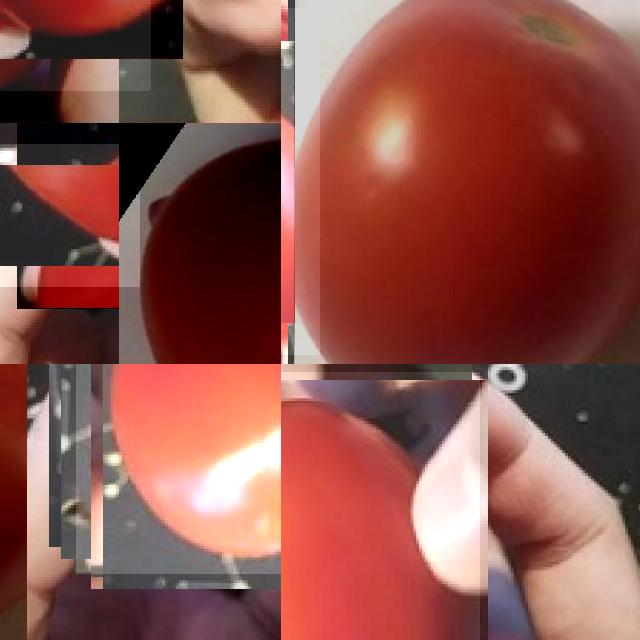Fresh Tomato: (294, 0, 640, 364), (281, 372, 480, 640), (76, 364, 281, 574), (119, 123, 281, 364), (0, 143, 139, 287), (0, 0, 151, 91)
